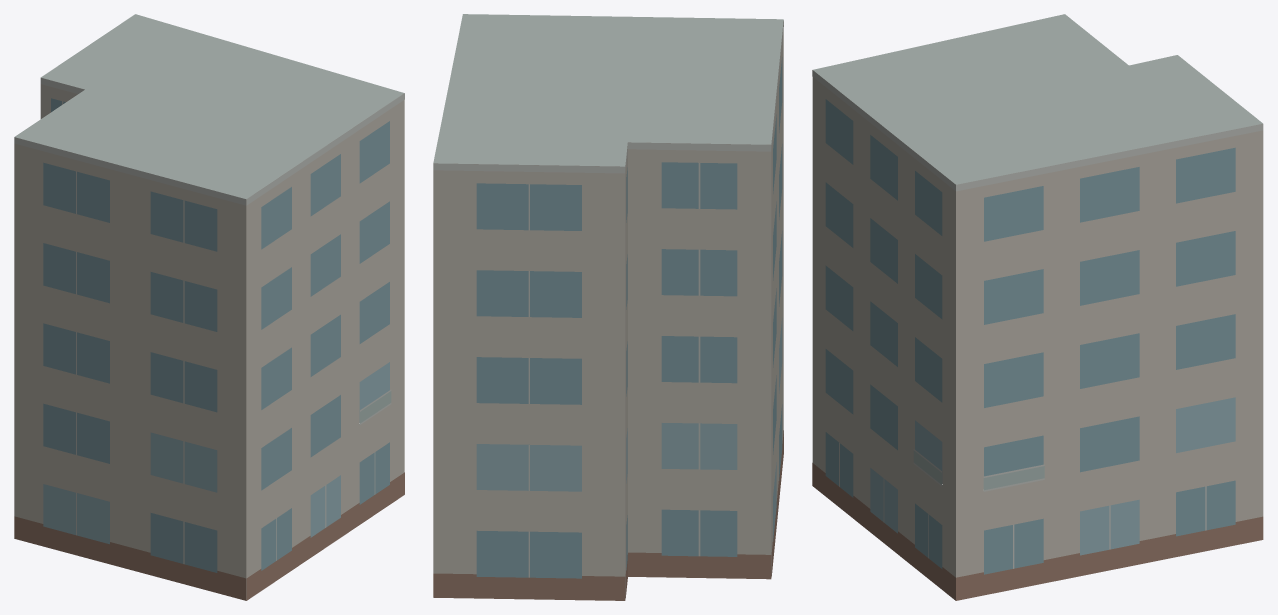
File: survey-upis-32836733.glb
The picture shows the model from 3 angles, left to right: view 1: azimuth 30°, elevation 25°; view 2: azimuth 150°, elevation 25°; view 3: azimuth 270°, elevation 25°; orthographic projection. The views are drawn at different scales.
Visible parts, largest first — view 1: survey-upis-32836733.tmp; view 2: survey-upis-32836733.tmp; view 3: survey-upis-32836733.tmp.
Part boxes in pixels (x1,y1,x2,y2): survey-upis-32836733.tmp: (14,14,404,600); survey-upis-32836733.tmp: (433,14,783,600); survey-upis-32836733.tmp: (812,14,1263,600).
Bounding box in the file's own units: 13.43 × 15.25 × 14.99.
